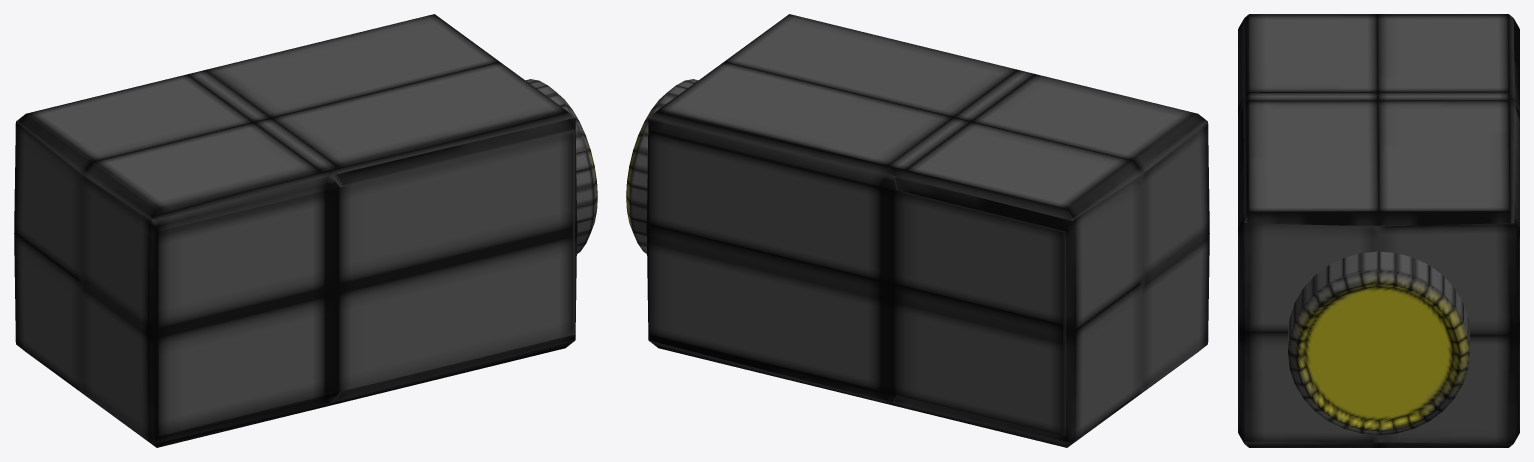
File: IFB399-Prop-LightingFixture.obj
The picture shows the model from 3 angles, left to right: view 1: azimuth 30°, elevation 25°; view 2: azimuth 150°, elevation 25°; view 3: azimuth 270°, elevation 25°; orthographic projection.
Visible parts, largest first — view 1: LightingFixtureBody_Cube, LightingFixtureLens_Cylinder; view 2: LightingFixtureBody_Cube, LightingFixtureLens_Cylinder; view 3: LightingFixtureBody_Cube, LightingFixtureLens_Cylinder.
Part boxes in pixels (x1,y1,x2,y2): LightingFixtureBody_Cube: [14, 14, 577, 447]; LightingFixtureLens_Cylinder: [525, 79, 597, 253]; LightingFixtureBody_Cube: [646, 14, 1209, 447]; LightingFixtureLens_Cylinder: [626, 79, 698, 253]; LightingFixtureBody_Cube: [1238, 14, 1519, 447]; LightingFixtureLens_Cylinder: [1288, 251, 1469, 434].
Bounding box in the file's own units: 1.92 × 0.9214 × 0.996.
